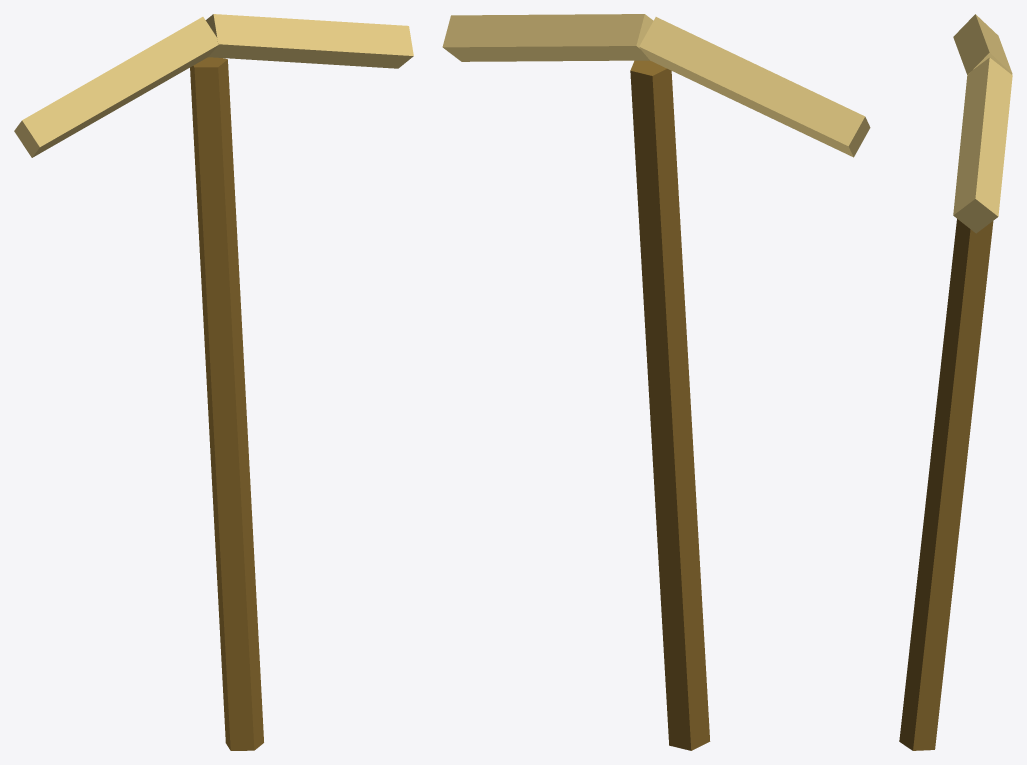
The model's file is pickaxe.glb.
3 renders of one model, left to right at view 1: azimuth 30°, elevation 25°; view 2: azimuth 150°, elevation 25°; view 3: azimuth 270°, elevation 25°, orthographic. The views are drawn at different scales.
Parts seen in each view (by area): view 1: pick haft, pick head.001, pick head; view 2: pick haft, pick head, pick head.001; view 3: pick haft, pick head.001, pick head.
Boxes of the visible parts, <box> form: pick haft: <box>190,57,263,750</box>; pick head.001: <box>205,14,413,68</box>; pick head: <box>14,17,220,157</box>; pick haft: <box>630,60,710,750</box>; pick head: <box>639,17,870,157</box>; pick head.001: <box>442,14,653,61</box>; pick haft: <box>899,219,993,750</box>; pick head.001: <box>953,57,1012,233</box>; pick head: <box>953,14,1012,75</box>.
Size of the model in its own units: 0.3082 by 0.5366 by 0.0799.
